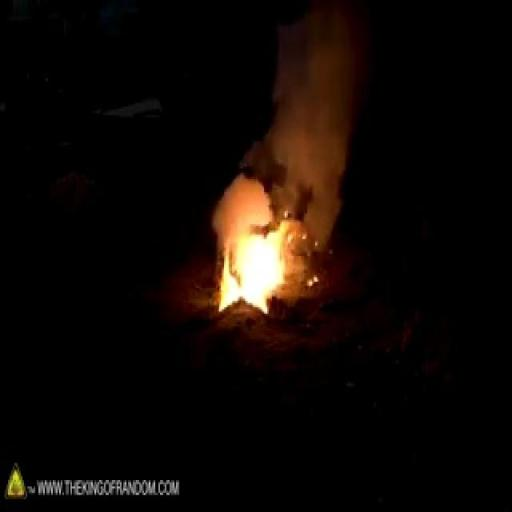smoke: (210, 208, 305, 332)
